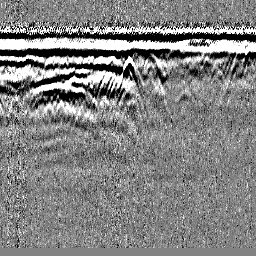cavity: (117, 56, 140, 93)
